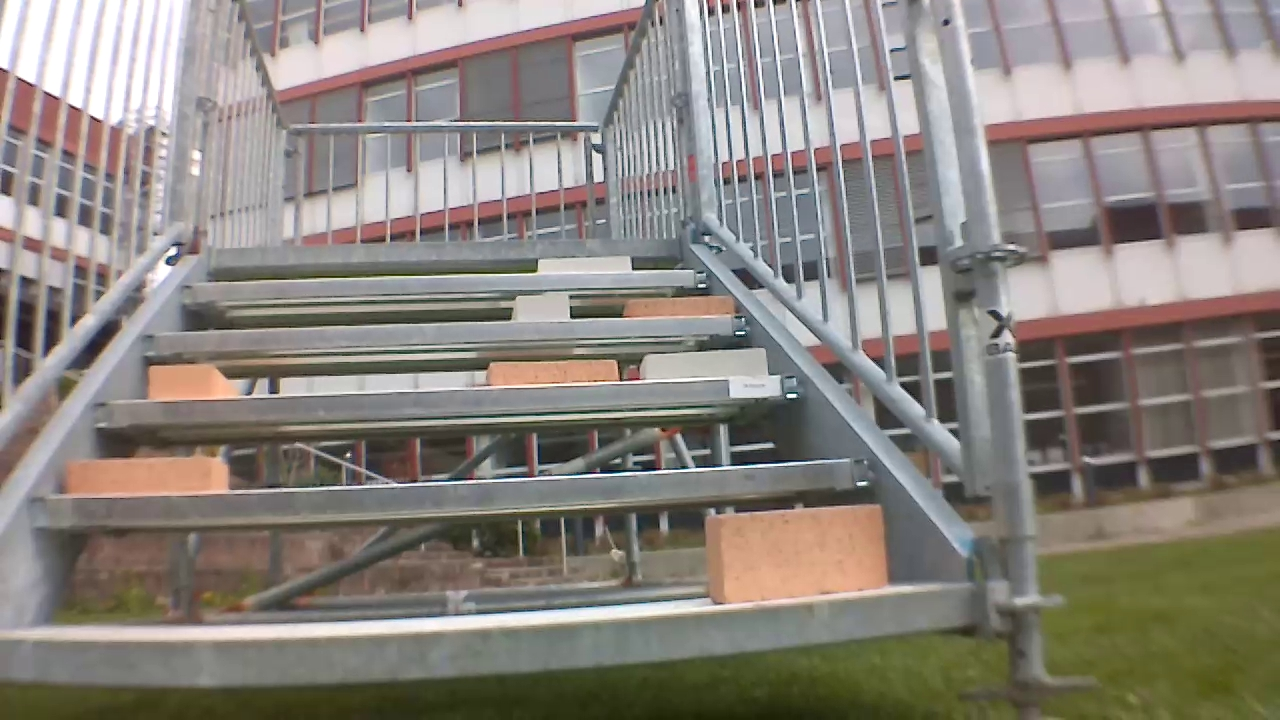brick: (706, 500, 892, 606), (57, 452, 232, 494), (485, 358, 620, 386), (644, 349, 769, 379), (618, 295, 742, 318), (145, 366, 235, 394), (507, 292, 572, 324), (536, 256, 626, 275)
edge: (0, 580, 985, 686), (30, 454, 870, 529), (89, 372, 805, 431), (132, 317, 752, 355), (180, 268, 708, 307), (211, 234, 683, 268)
stairs: (0, 7, 1045, 720)
steps: (0, 236, 1039, 671)
